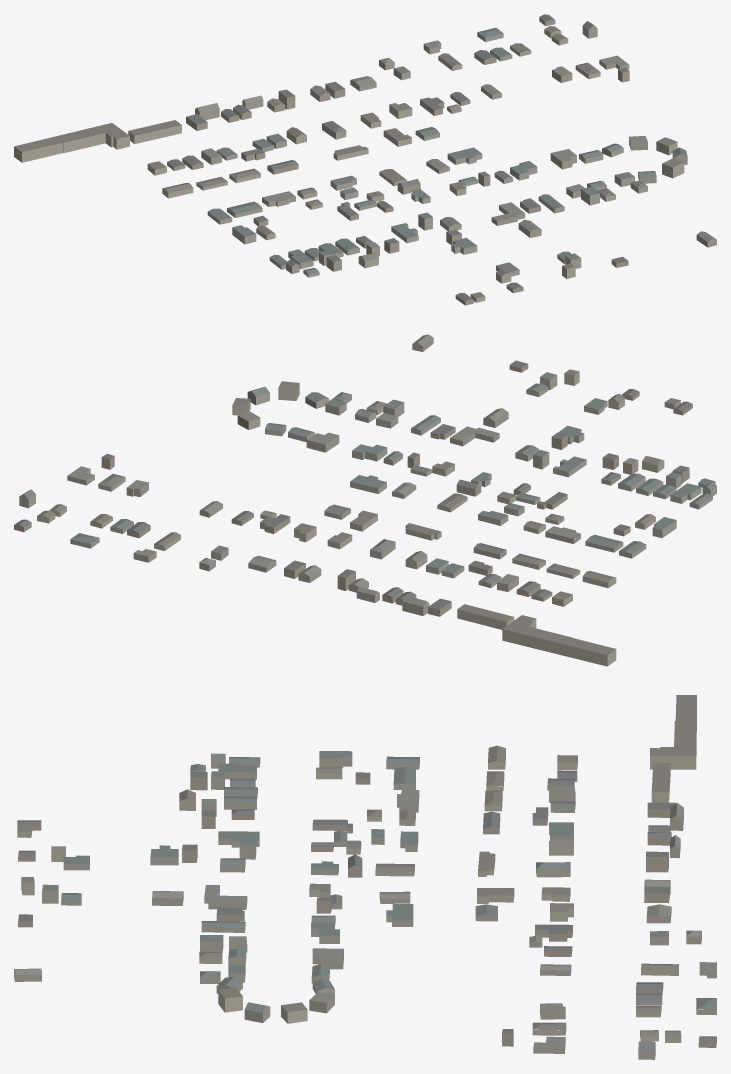
Rendered from 45cbe97caf95-chunk-1206_11840.glb.
3 views of the same model, one above another, from view 1: azimuth 30°, elevation 25°; view 2: azimuth 150°, elevation 25°; view 3: azimuth 270°, elevation 25° (orthographic). The views are drawn at different scales.
Parts seen in each view (by area): view 1: building_42448, building_162488, building_12660; view 2: building_42448, building_162488, building_12660; view 3: building_42448, building_162488, building_12660, building_50652, building_117073, building_29865, building_50125.
Boxes of the visible parts, x1,y1,x2,y2 form: building_42448: [14, 123, 129, 162]; building_162488: [128, 120, 181, 144]; building_12660: [491, 202, 525, 225]; building_42448: [502, 615, 616, 666]; building_162488: [457, 604, 514, 629]; building_12660: [450, 426, 499, 446]; building_42448: [650, 695, 696, 769]; building_162488: [651, 762, 670, 802]; building_12660: [204, 885, 247, 909]; building_50652: [312, 948, 343, 969]; building_117073: [535, 924, 572, 941]; building_29865: [386, 904, 413, 926]; building_50125: [477, 888, 514, 903].
Size of the model in its own units: 452 by 9.51 by 383.
